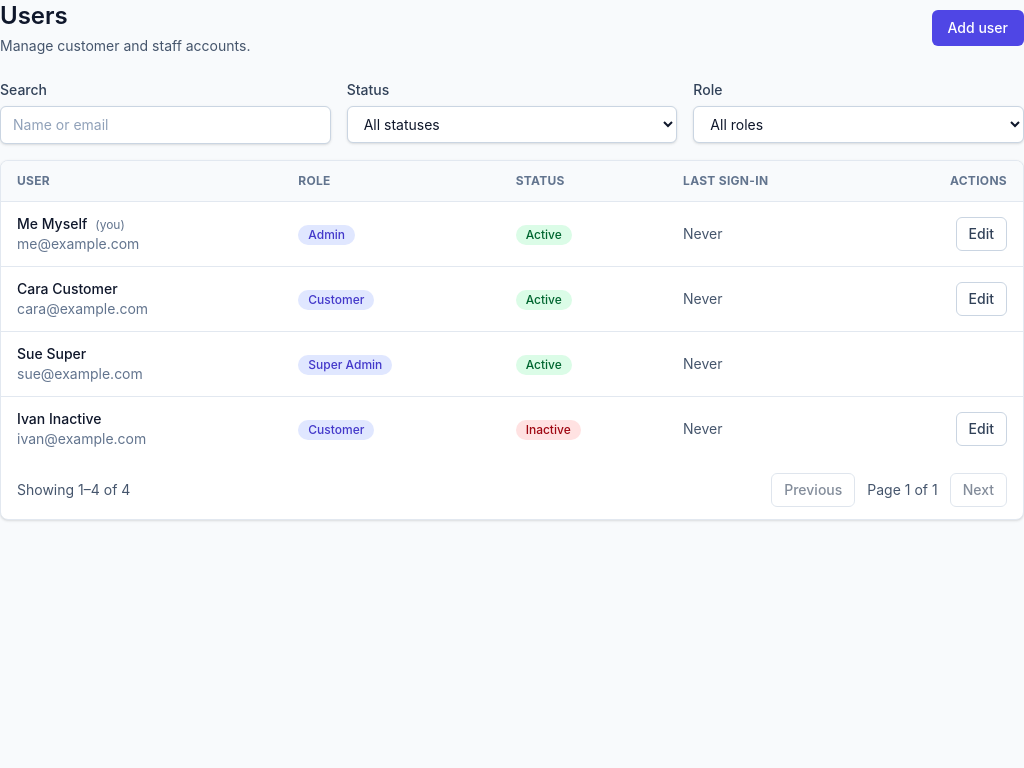
Test: UsersPage › shows the backend error under the field when creating a duplicate email
The image size is (1024, 768).
Click the button "Add user" at (978, 28), box [932, 10, 1023, 46]
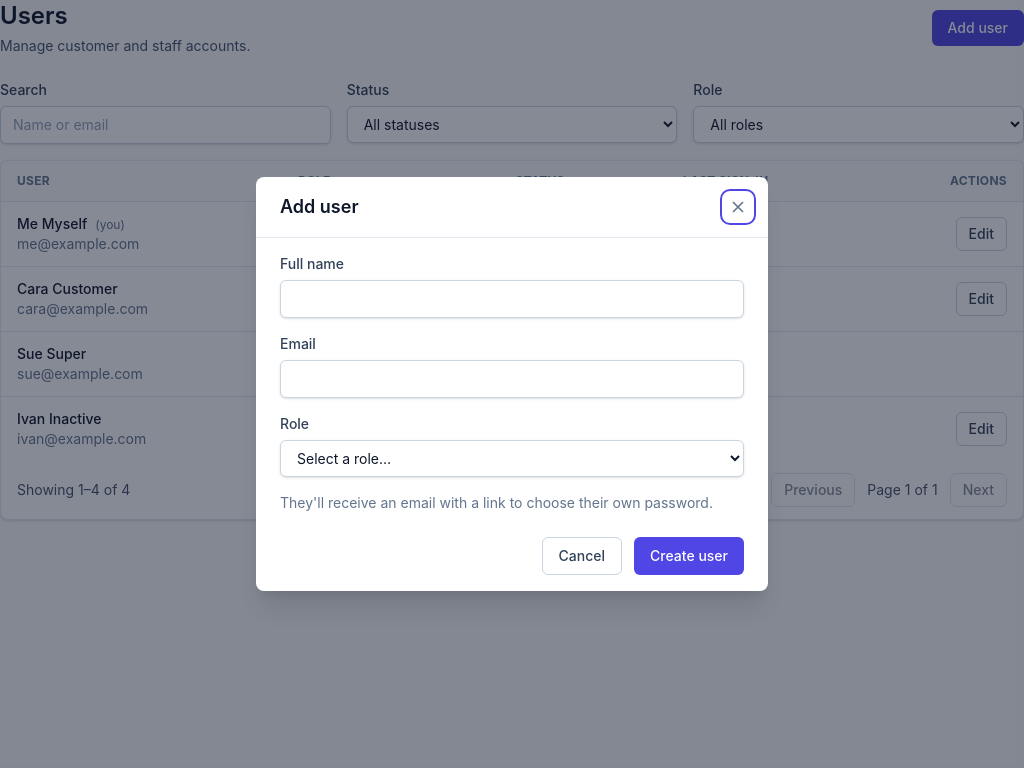
Type "Dup" into the field labelled "Full name" at (512, 299), box [280, 280, 744, 318]
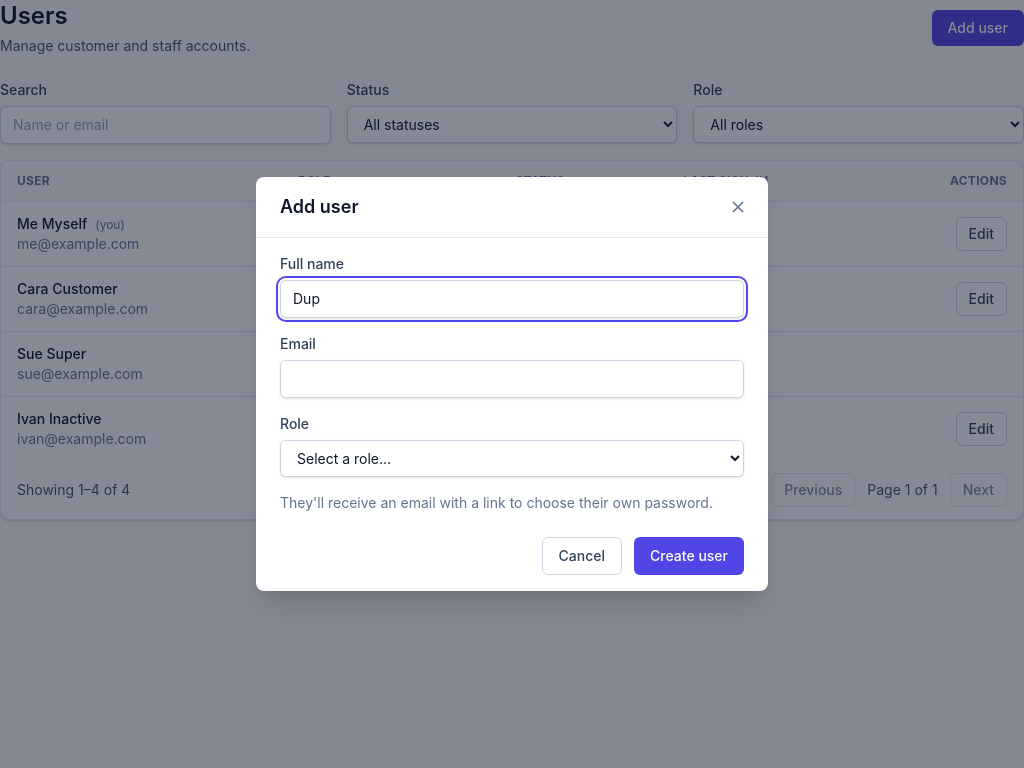
Type "cara@example.com" into the field labelled "Email" at (512, 379), box [280, 360, 744, 398]
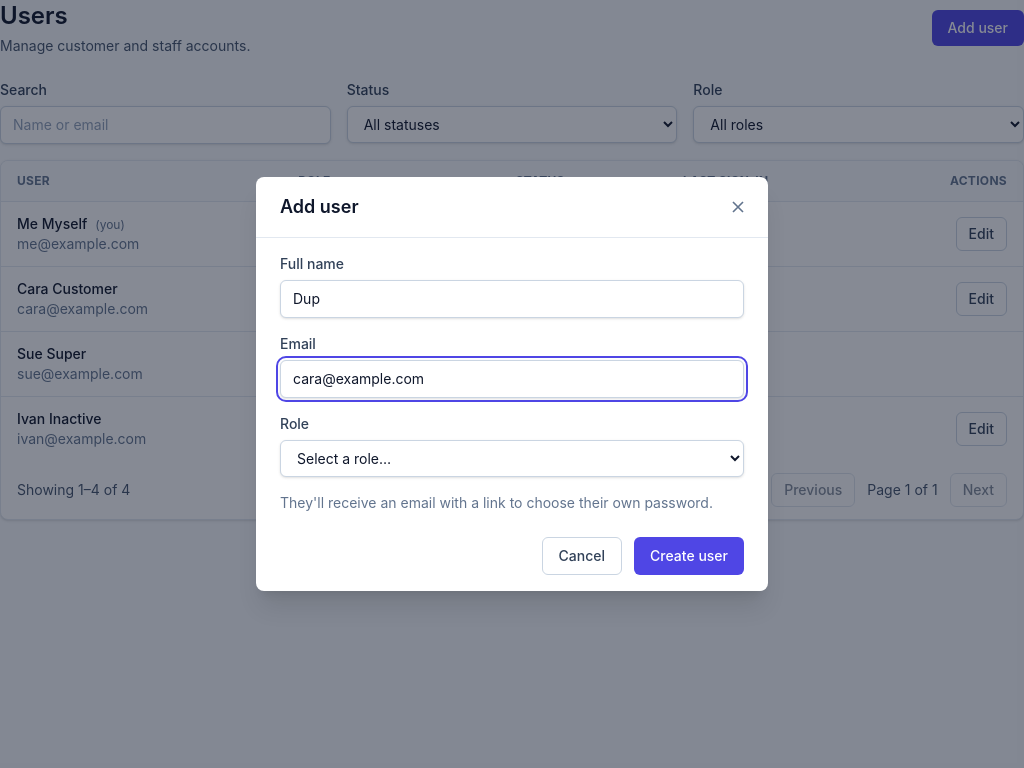
Select "Customer" in the dropdown labelled "Role" at (512, 458), box [280, 440, 744, 477]
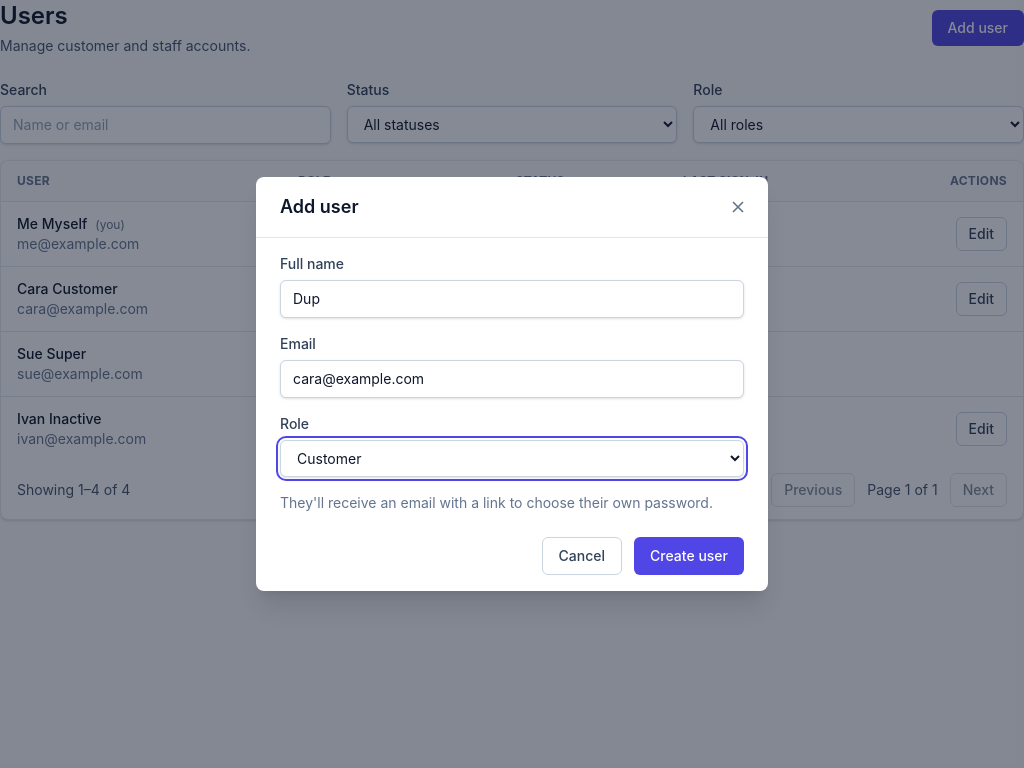
Click the button "Create user" at (689, 556), box [634, 537, 744, 575]
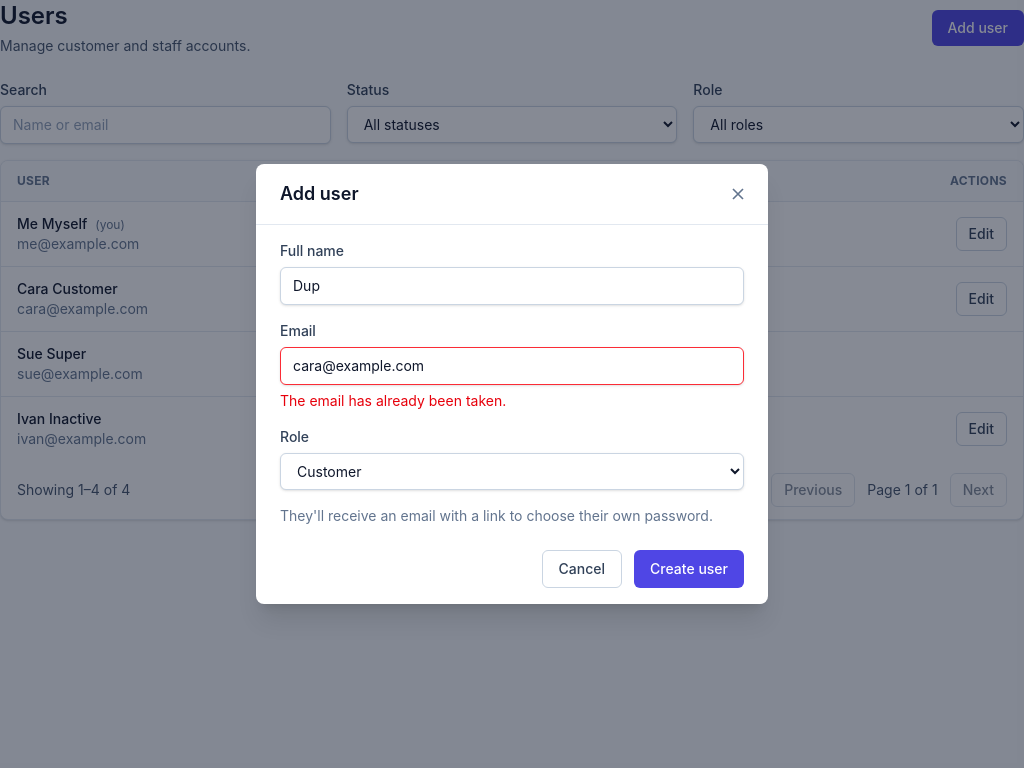
Expected: the dialog is shown, [256, 164, 768, 604]
Expected: the text "The email has already been taken." is shown, [280, 392, 506, 409]
